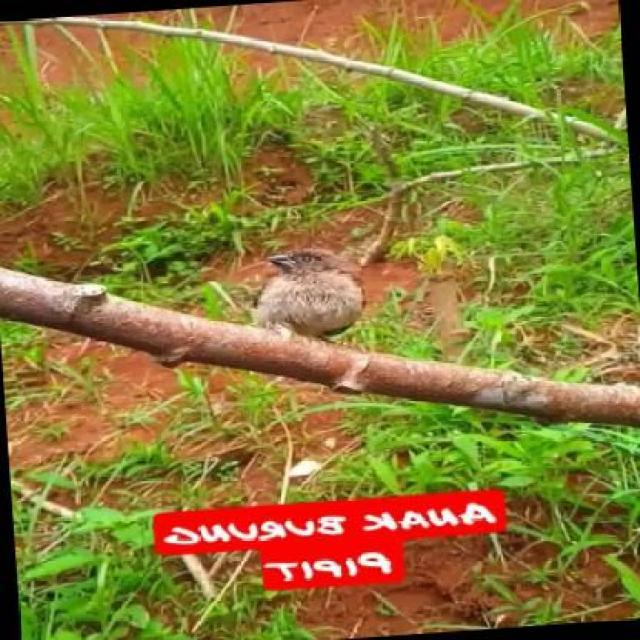Bird: (235, 240, 379, 346)
